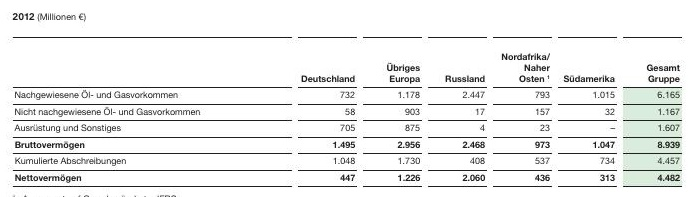table: (0, 0, 692, 197)
